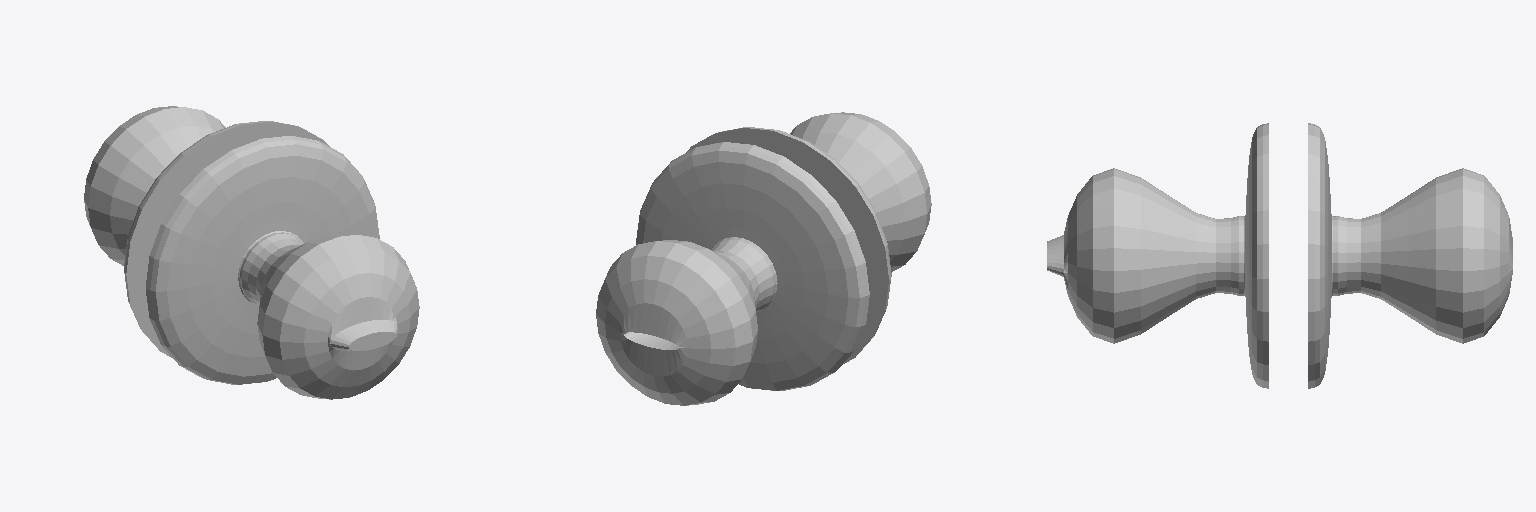
File: DoorKnobs.obj
3 views of the same model, side by side, from view 1: azimuth 30°, elevation 25°; view 2: azimuth 150°, elevation 25°; view 3: azimuth 270°, elevation 25° (orthographic).
Parts seen in each view (by area): view 1: nurbsCircle8; view 2: nurbsCircle8; view 3: nurbsCircle8.
Part boxes in pixels (x1,y1,x2,y2): nurbsCircle8: (84, 106, 419, 399); nurbsCircle8: (596, 112, 931, 405); nurbsCircle8: (1047, 123, 1512, 388).
Size of the model in its own units: 2.43 by 2.43 by 4.24.